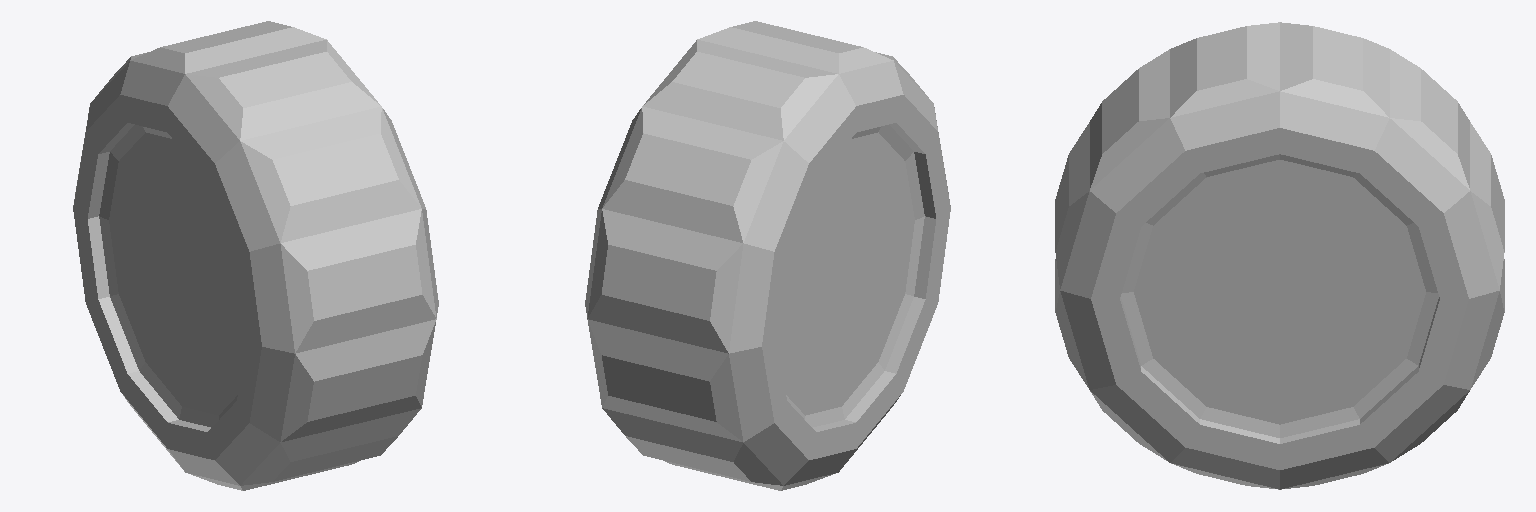
Rendered from apcqwheel3.obj.
3 views of the same model, side by side, from view 1: azimuth 30°, elevation 25°; view 2: azimuth 150°, elevation 25°; view 3: azimuth 270°, elevation 25° (orthographic).
Parts seen in each view (by area): view 1: Wheel11; view 2: Wheel11; view 3: Wheel11.
Boxes of the visible parts, x1=… form: Wheel11: x1=73, y1=21, x2=438, y2=490; Wheel11: x1=585, y1=21, x2=950, y2=490; Wheel11: x1=1055, y1=22, x2=1504, y2=489.
Size of the model in its own units: 2.16 by 4.76 by 4.76.